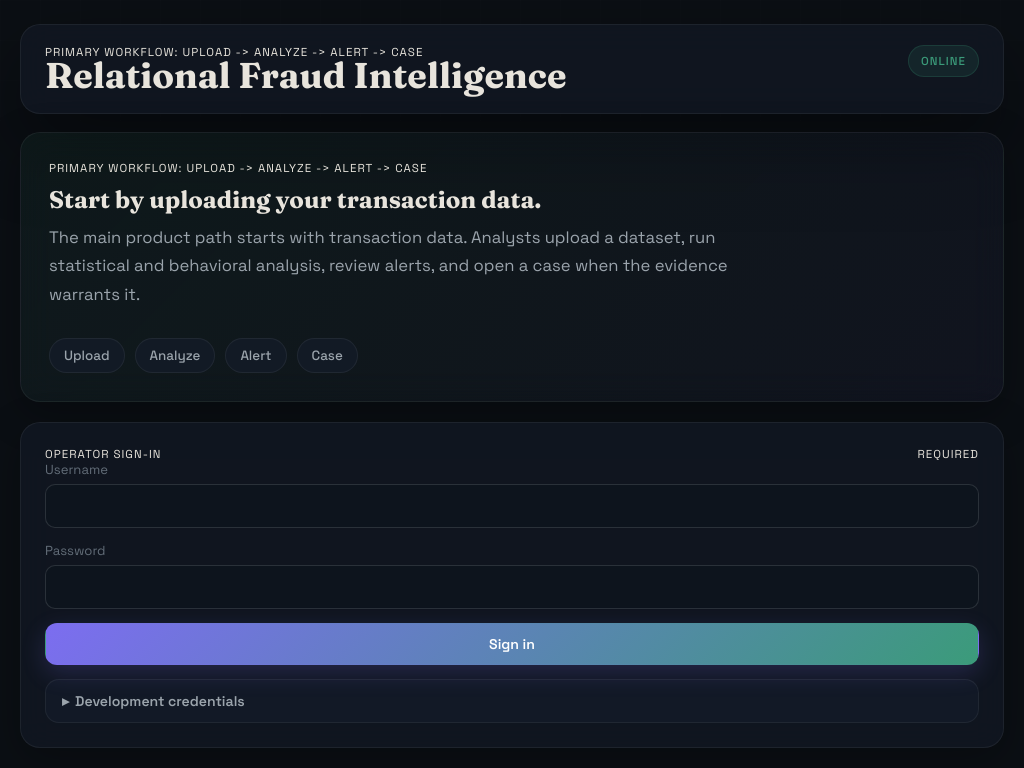
Test: Dashboard › loads the audit trail for an admin session
The width and height of the screenshot is (1024, 768).
Type "admin" into the field labelled "Username". click: (512, 506)
box: [45,484,979,528]
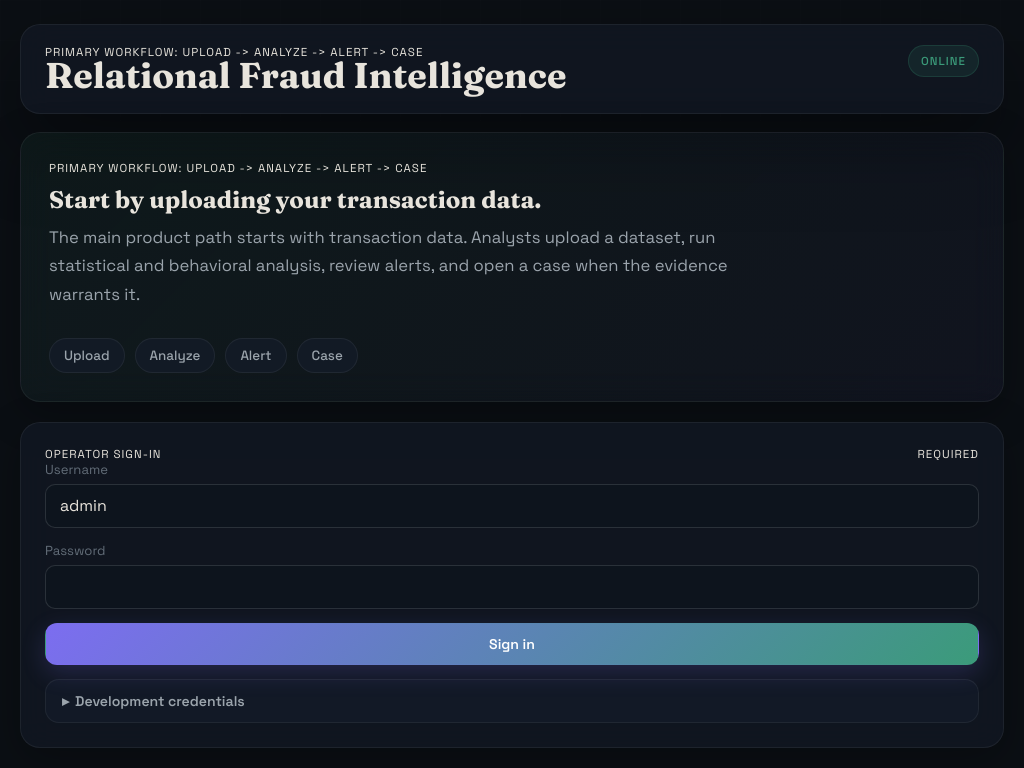
Type "AdminPassword123!" into the password field labelled "Password". click: (512, 586)
box: [45,564,979,608]
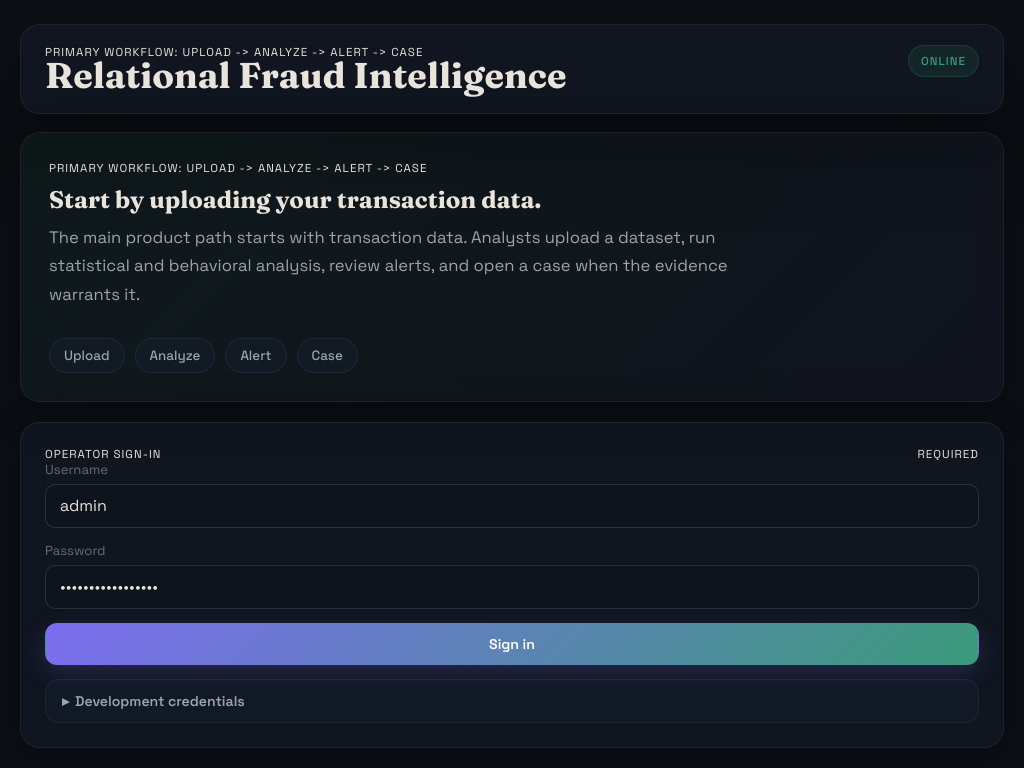
Submit the form "Sign in", box [45,460,979,664]
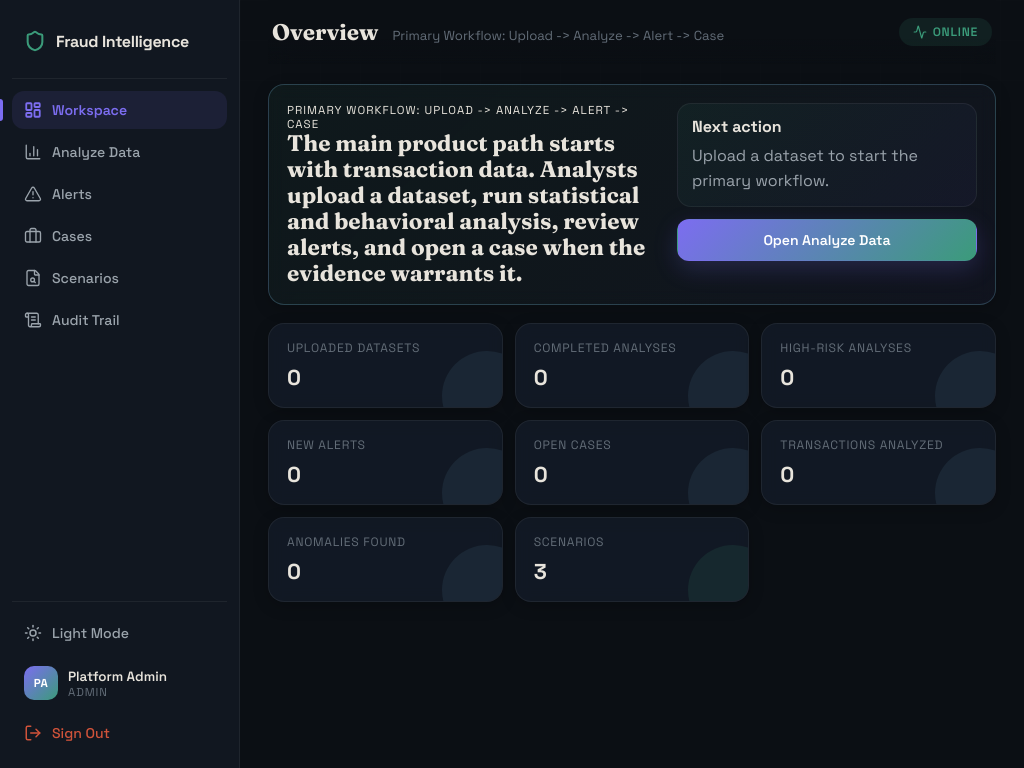
Navigate to Audit Trail tab
Click the button "Audit Trail". click: (120, 320)
box: [12,301,227,339]
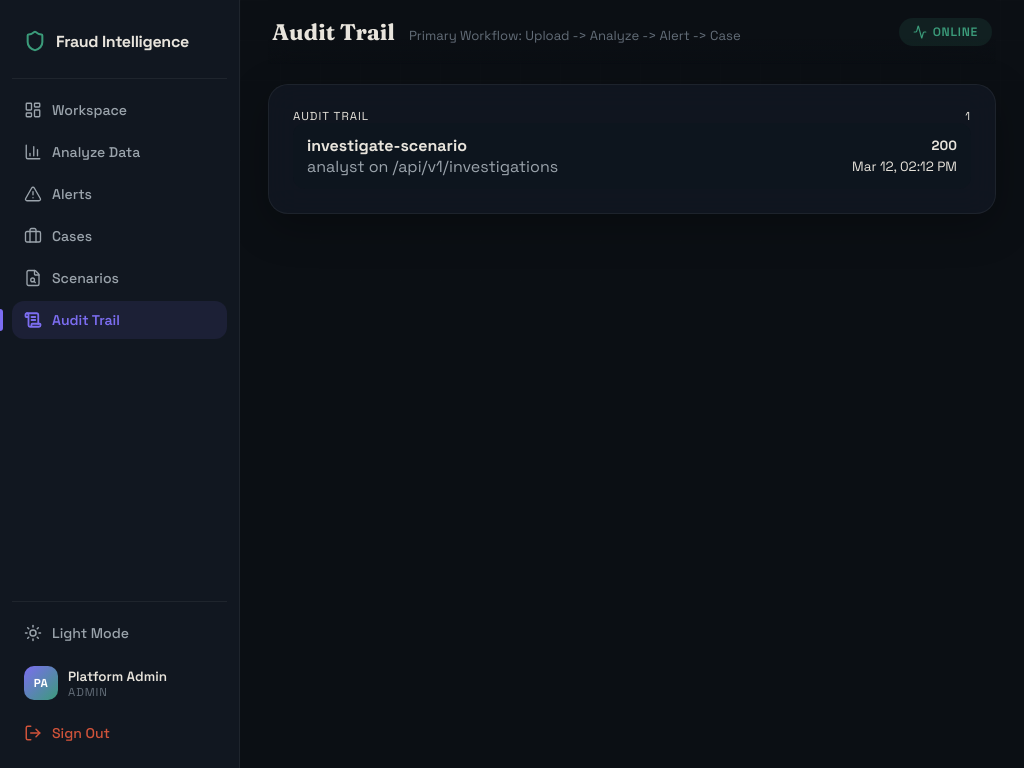
Expected: the text "investigate-scenario" is shown, [307,135,467,156]
